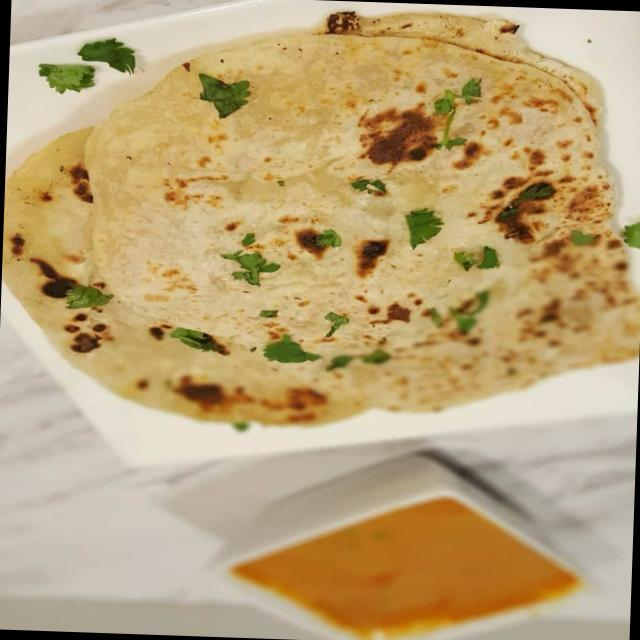roti: (1, 11, 640, 430)
